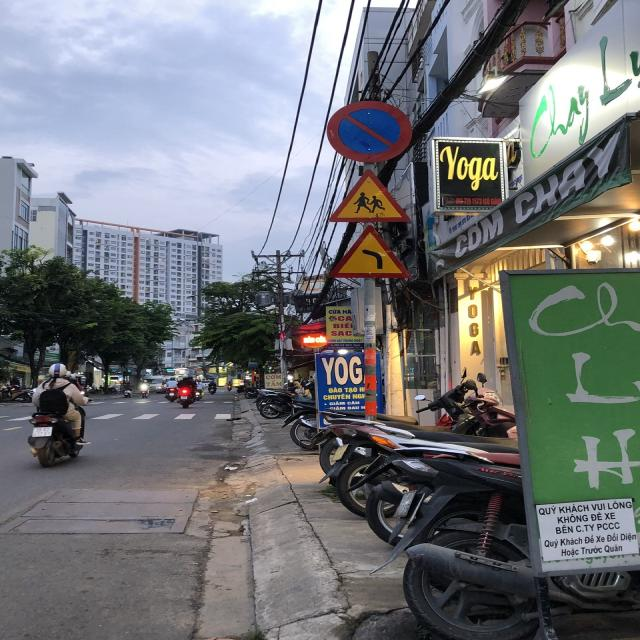Bien bao cam do xe: (323, 95, 422, 167)
Bien bao cho ngoat nguy hiem: (318, 221, 414, 280)
Bien bao tre em: (320, 168, 420, 228)
